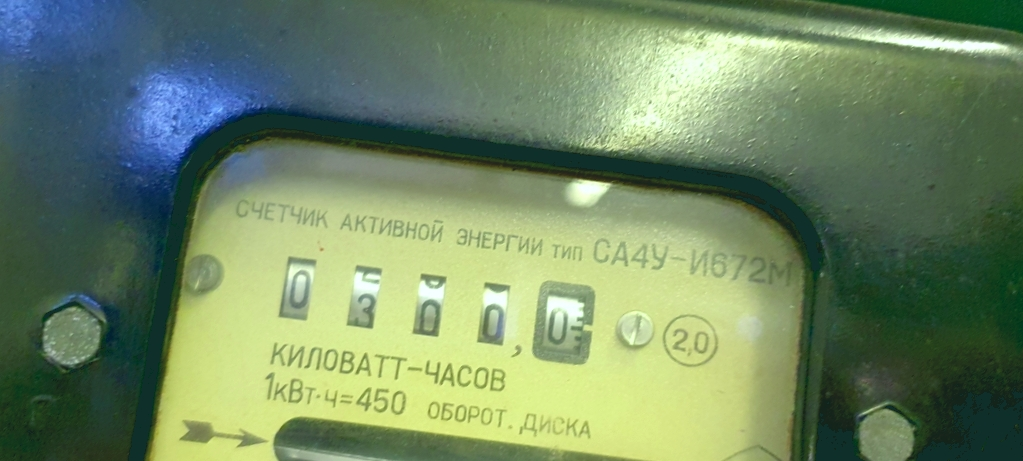0: (285, 263, 314, 312), (478, 298, 508, 344), (542, 302, 572, 347), (415, 294, 443, 337)
3: (351, 288, 378, 329)
screen: (255, 229, 619, 383)
